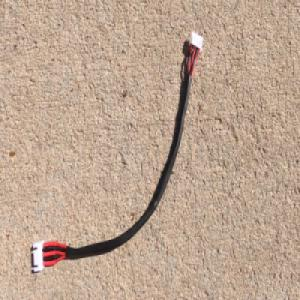Wire: (30, 28, 204, 275)
